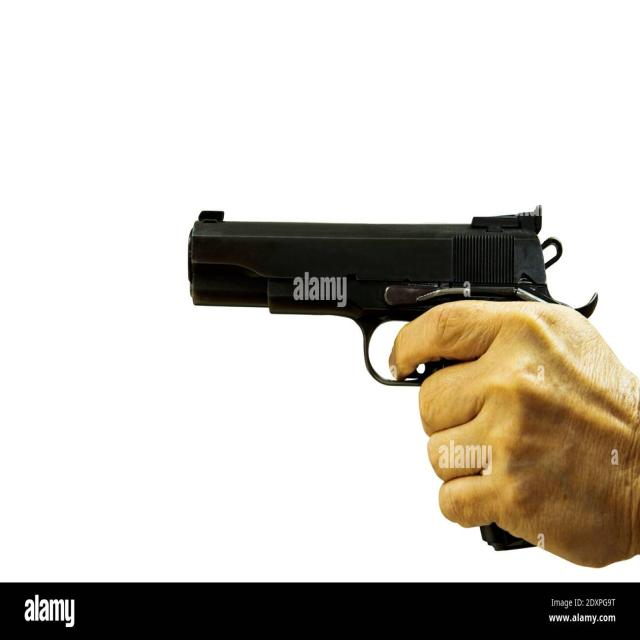HandGun: (188, 206, 600, 386)
